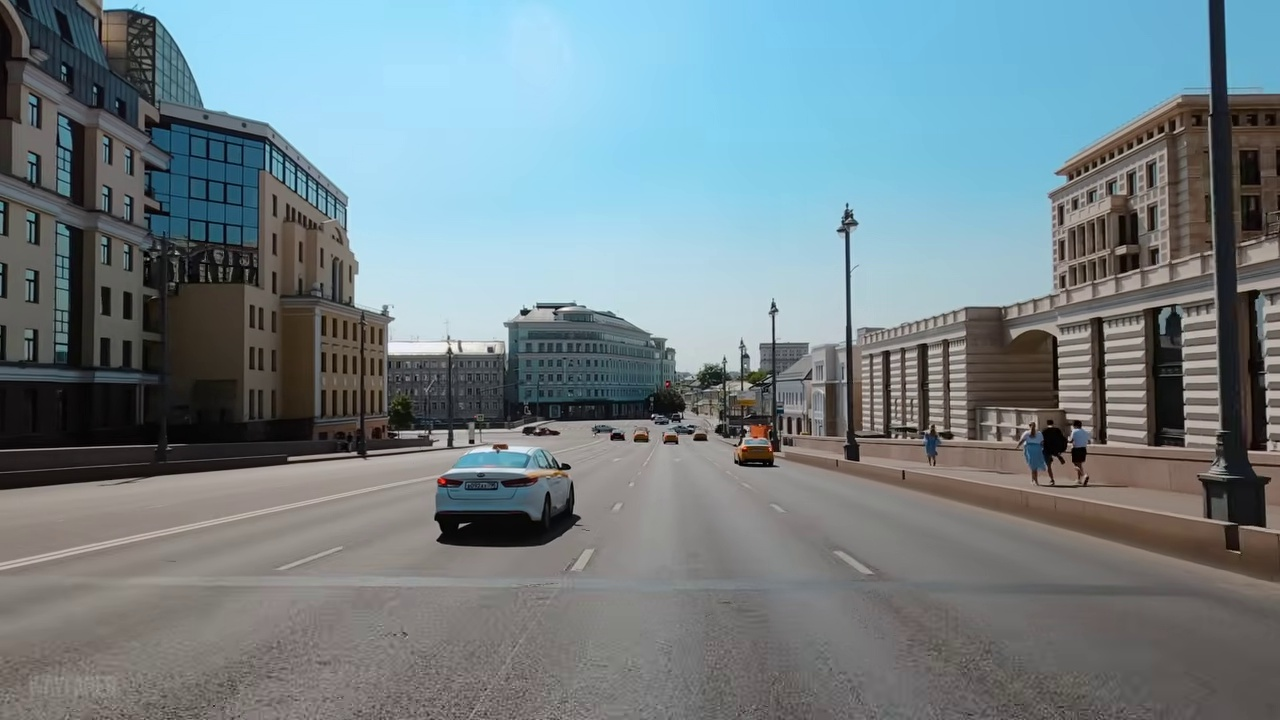apagada: (831, 209, 862, 243)
